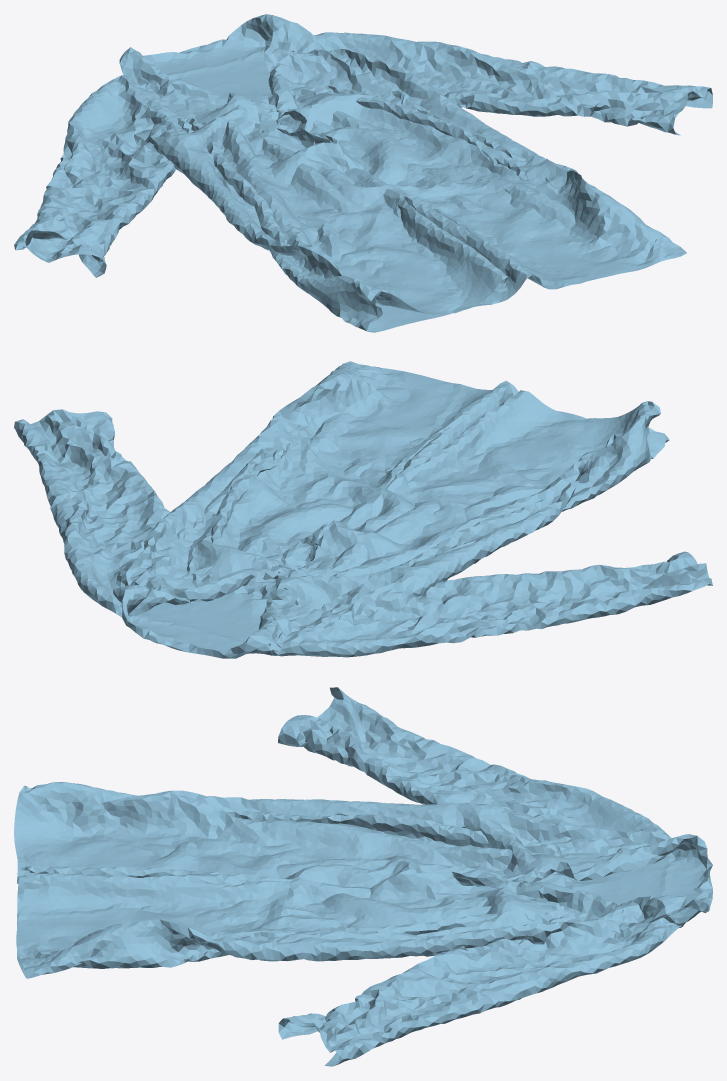
File: frame_01.glb
The picture shows the model from 3 angles, top to bottom: view 1: azimuth 30°, elevation 25°; view 2: azimuth 150°, elevation 25°; view 3: azimuth 270°, elevation 25°; orthographic projection. The views are drawn at different scales.
Parts seen in each view (by area): view 1: frame_01.obj; view 2: frame_01.obj; view 3: frame_01.obj.
Part boxes in pixels (<box>): frame_01.obj: <box>14,14,712,332</box>; frame_01.obj: <box>14,361,712,658</box>; frame_01.obj: <box>14,687,712,1066</box>.
Size of the model in its own units: 1.99 by 0.112 by 1.68.
